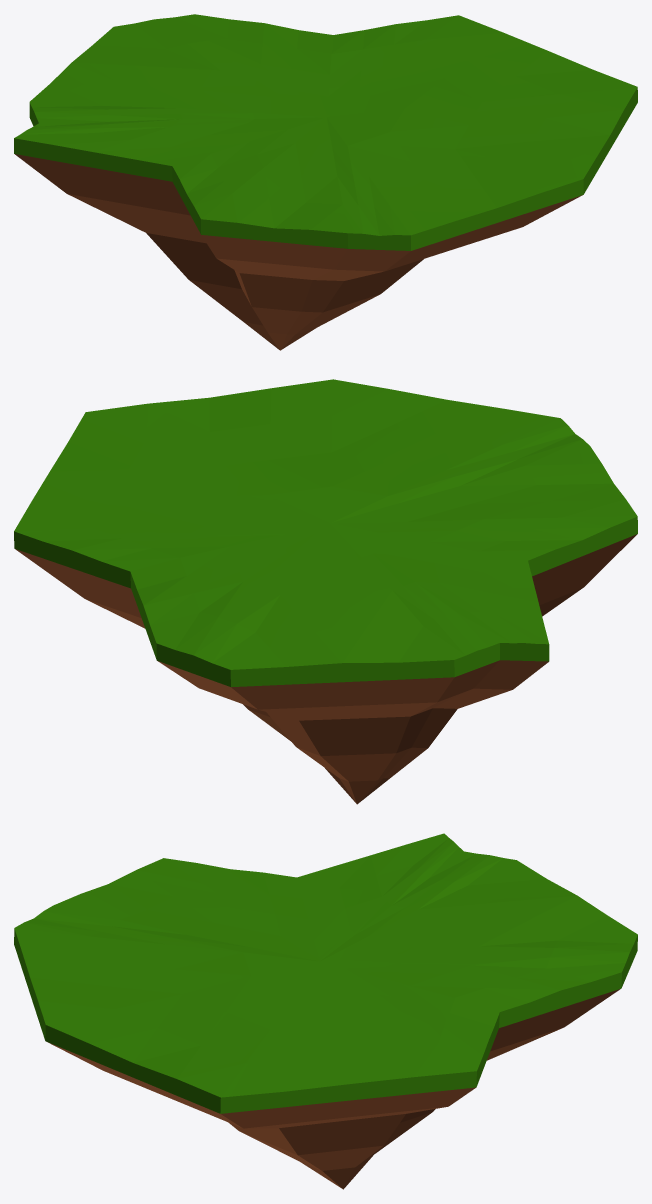
The model's file is Island.fbx.
3 views of the same model, one above another, from view 1: azimuth 30°, elevation 25°; view 2: azimuth 150°, elevation 25°; view 3: azimuth 270°, elevation 25° (orthographic). The views are drawn at different scales.
Visible parts, largest first — view 1: Plane.002; view 2: Plane.002; view 3: Plane.002.
Part boxes in pixels (x1,y1,x2,y2): Plane.002: [14, 14, 637, 350]; Plane.002: [14, 379, 637, 804]; Plane.002: [14, 833, 637, 1189].
Bounding box in the file's own units: 232 × 101 × 229.
